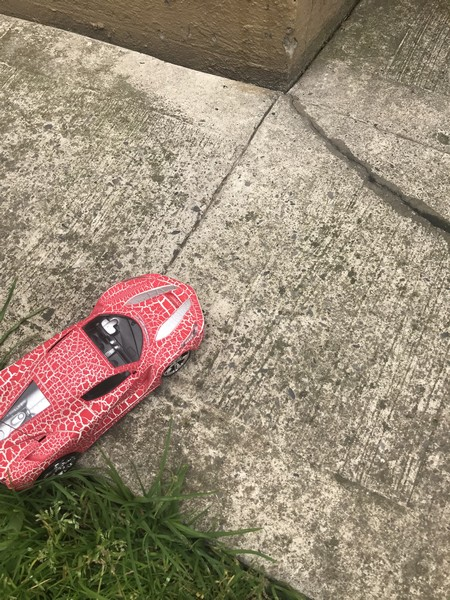RC: (1, 268, 206, 495)
